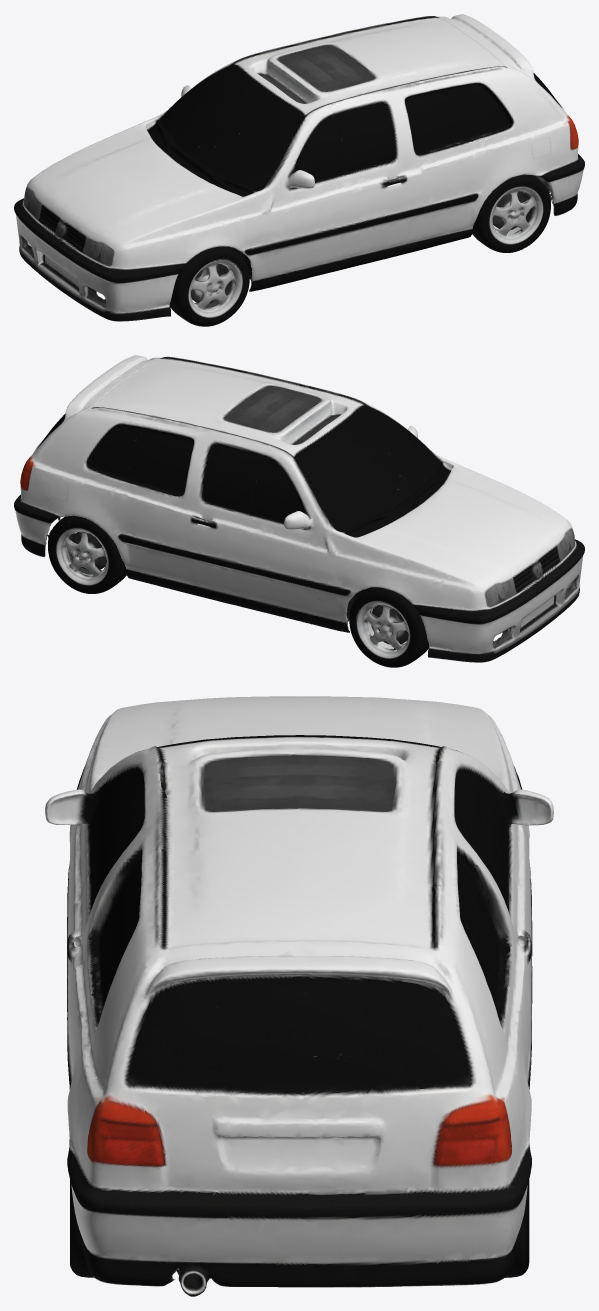
Rendered from cars_popular_club.glb.
3 views of the same model, one above another, from view 1: azimuth 30°, elevation 25°; view 2: azimuth 150°, elevation 25°; view 3: azimuth 270°, elevation 25° (orthographic). The views are drawn at different scales.
Bounding box in the file's own units: 1.89 × 0.6655 × 0.8531.
1 material, 1 textured.
